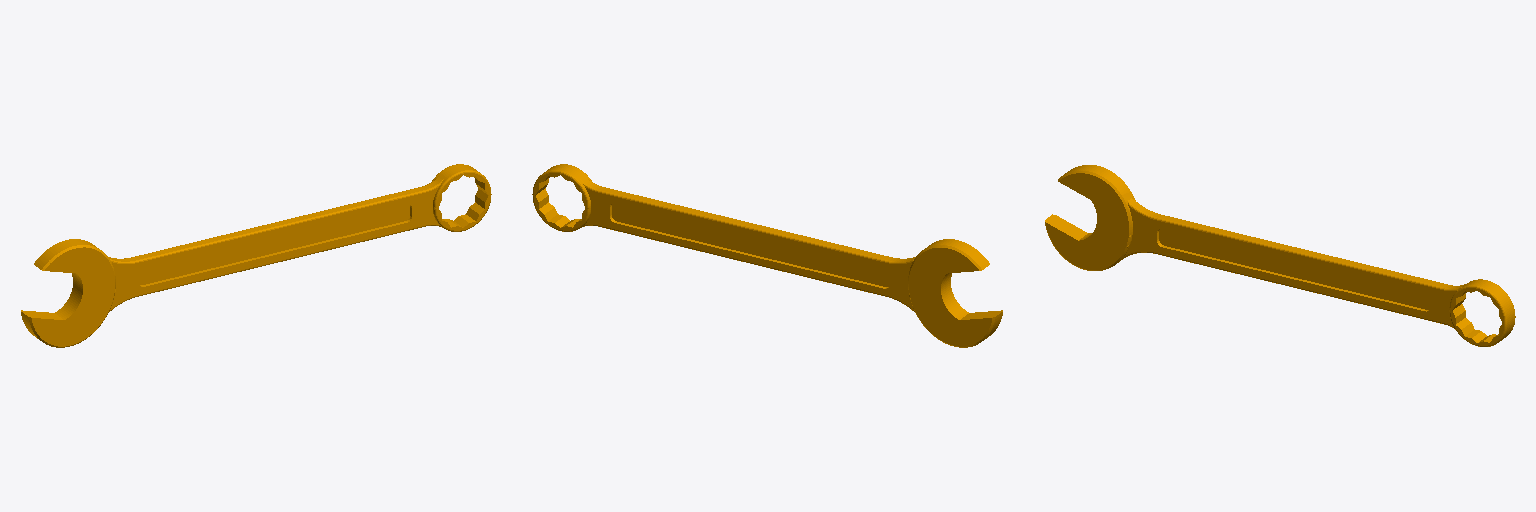
robot.urdf — wrench_1_L0.60_T0.60:
<?xml version="1.0" encoding="utf-8"?>
<robot name="wrench_1_L0.60_T0.60">
  <link name="wrench_1_L0.60_T0.60Link">
    <contact>
      <lateral_friction value="1"/>
    </contact>
    <inertial>
      <origin rpy="0 0 0" xyz="0 0 0"/>
      <mass value="0.0"/>
      <inertia ixx="0" ixy="0" ixz="0" iyy="0" iyz="0" izz="0"/>
    </inertial>
    <visual>
      <origin rpy="0 0 0" xyz="0 0 0"/>
      <geometry>
        <mesh filename="generated_stl/wrench/wrench_1/wrench_1_L0.60_T0.60/wrench_1_L0.60_T0.60.stl" scale="0.01 0.01 0.01"/>
      </geometry>
    </visual>
    <collision>
      <origin rpy="0 0 0" xyz="0 0 0"/>
      <geometry>
        <mesh filename="generated_stl/wrench/wrench_1/wrench_1_L0.60_T0.60/wrench_1_L0.60_T0.60.stl" scale="0.01 0.01 0.01"/>
      </geometry>
    </collision>
  </link>
</robot>

--- Render facts (derived) ---
3 views of the same robot in one strip: view 1: azimuth 30°, elevation 25°; view 2: azimuth 150°, elevation 25°; view 3: azimuth 330°, elevation 25° (orthographic).
Model wrench_1_L0.60_T0.60 with 1 links and 0 joints (none), rooted at wrench_1_L0.60_T0.60Link, posed every joint at zero.
Links seen in each view (by area): view 1: wrench_1_L0.60_T0.60Link; view 2: wrench_1_L0.60_T0.60Link; view 3: wrench_1_L0.60_T0.60Link.
Link boxes in pixels (x1=…): wrench_1_L0.60_T0.60Link: x1=21, y1=164, x2=491, y2=347; wrench_1_L0.60_T0.60Link: x1=532, y1=164, x2=1002, y2=347; wrench_1_L0.60_T0.60Link: x1=1045, y1=165, x2=1515, y2=346.
Bounding box of the posed robot: 0.06 × 0.0023 × 0.0123 m (x, y, z).
Meshes: 1 distinct files referenced, 1 mesh visuals loaded (1 binary STL).